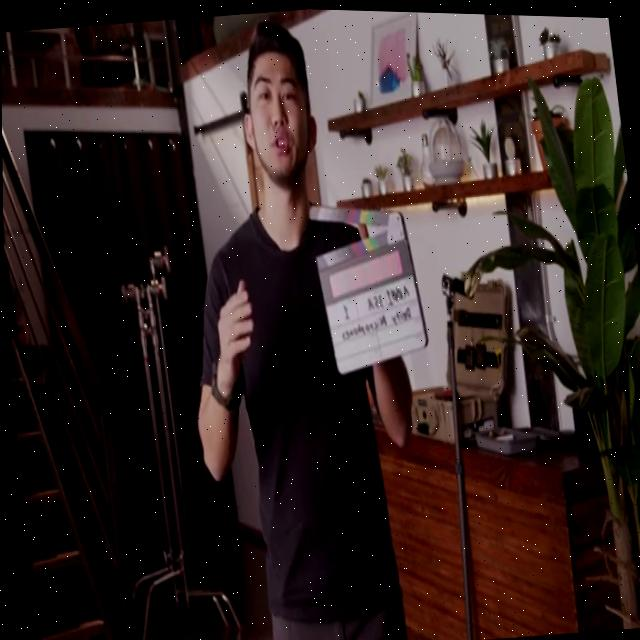Clapperboard: (308, 192, 434, 384)
